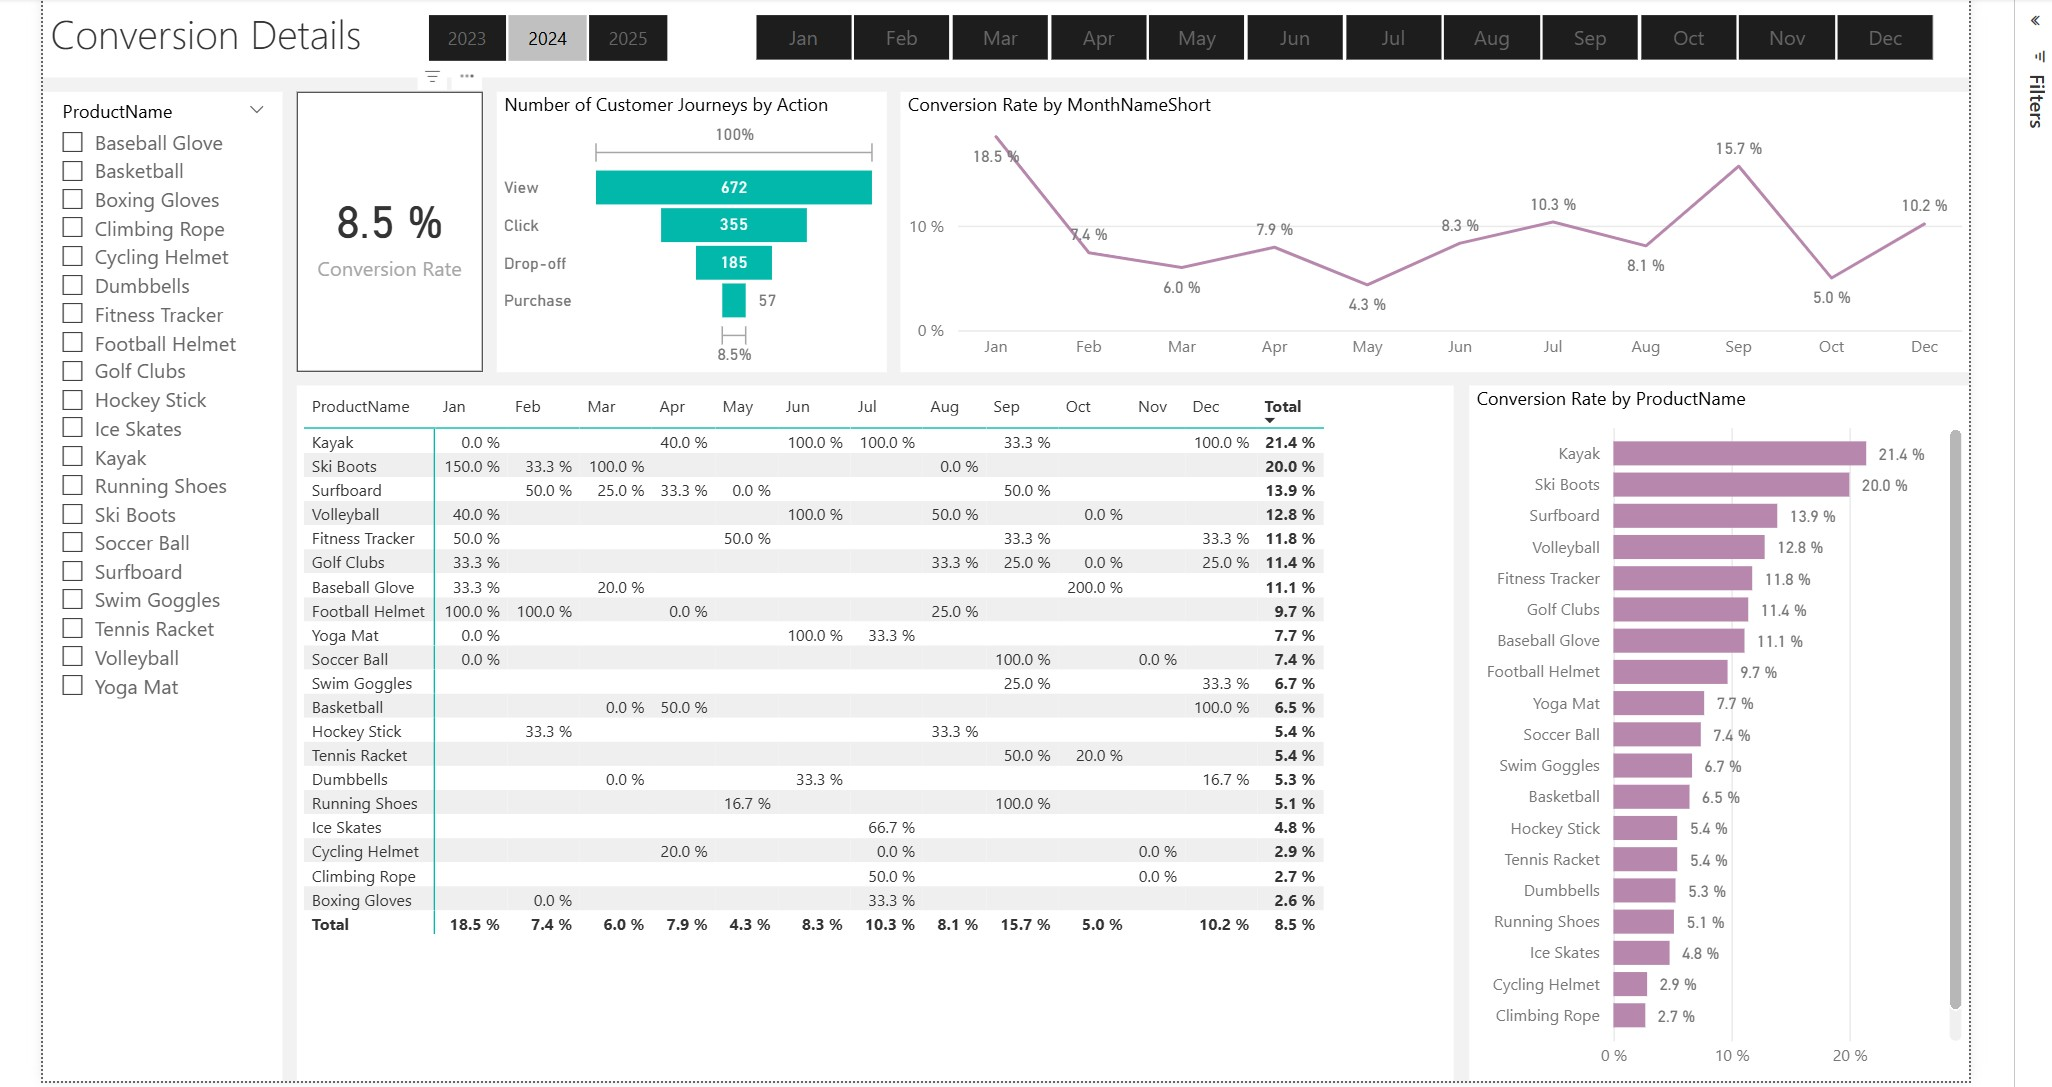

What the dashboard file says about the page in this screenshot:
{"tool":"powerbi","page":{"name":"Conversion Details","canvas":[1280,720],"ordinal":1},"visuals":[{"type":"textbox","box":[0,0,1280,52.6],"z":0},{"type":"slicer","fields":{"Values":["dim_products.ProductName"]},"box":[0,61.9,159.4,658.4],"z":1000},{"type":"card","fields":{"Values":["_Calculations.Conversion Rate"]},"box":[168.5,61.9,123.8,186.7],"z":2000},{"type":"lineChart","fields":{"Y":["_Calculations.Conversion Rate"],"Category":["Calendar.MonthNameShort"]},"box":[570.1,61.9,710.3,186.7],"z":3000},{"type":"clusteredBarChart","fields":{"Category":["dim_products.ProductName"],"Y":["_Calculations.Conversion Rate"]},"box":[948,257.7,332.4,462.6],"z":4000},{"type":"slicer","fields":{"Values":["Calendar.Year"]},"box":[230.2,4.1,208.5,44.4],"z":5000},{"type":"slicer","fields":{"Values":["Calendar.MonthNameShort"]},"box":[448,4.6,832.3,43.7],"z":6000},{"type":"pivotTable","fields":{"Rows":["dim_products.ProductName"],"Values":["_Calculations.Conversion Rate"],"Columns":["Calendar.MonthNameShort"]},"box":[168.5,257.7,768.6,462.6],"z":7000},{"type":"funnel","fields":{"Category":["fact_customer_journey.Action"],"Y":["_Calculations.Number of Customer Journeys"]},"box":[301.4,61.9,259.5,186.7],"z":8000}]}

Visuals, with their boxes on the page's 1280x720 design canvas (x1, y1, x2, y2). These are canvas units, not pixel positions in the 2052x1087 screenshot, which may show the page scaled, cropped or inside an application window:
textbox: {"x1": 0, "y1": 0, "x2": 1280, "y2": 53}
slicer - dim_products.ProductName: {"x1": 0, "y1": 62, "x2": 159, "y2": 720}
card - _Calculations.Conversion Rate: {"x1": 168, "y1": 62, "x2": 292, "y2": 249}
lineChart - _Calculations.Conversion Rate x Calendar.MonthNameShort: {"x1": 570, "y1": 62, "x2": 1280, "y2": 249}
clusteredBarChart - dim_products.ProductName x _Calculations.Conversion Rate: {"x1": 948, "y1": 258, "x2": 1280, "y2": 720}
slicer - Calendar.Year: {"x1": 230, "y1": 4, "x2": 439, "y2": 48}
slicer - Calendar.MonthNameShort: {"x1": 448, "y1": 5, "x2": 1280, "y2": 48}
pivotTable - dim_products.ProductName x _Calculations.Conversion Rate: {"x1": 168, "y1": 258, "x2": 937, "y2": 720}
funnel - fact_customer_journey.Action x _Calculations.Number of Customer Journeys: {"x1": 301, "y1": 62, "x2": 561, "y2": 249}
